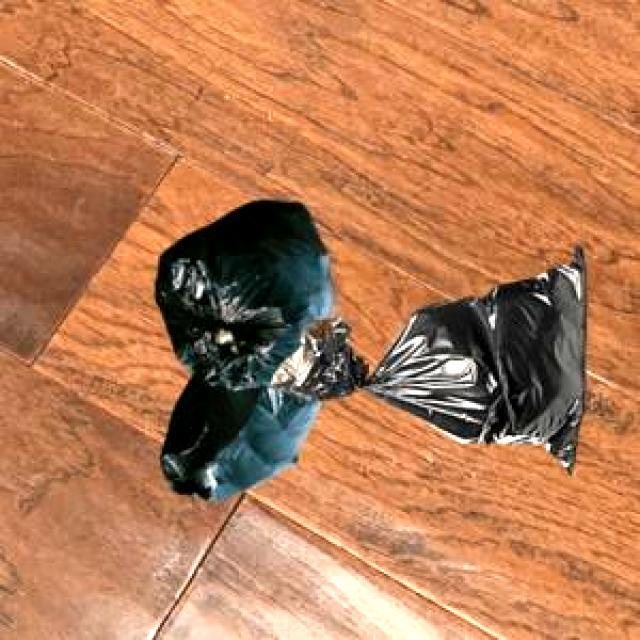Garbage_Bag: (270, 240, 584, 473), (152, 199, 332, 496)
